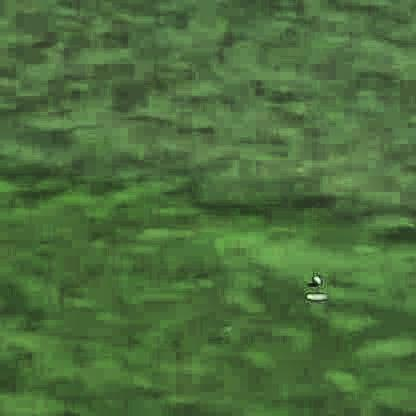golfball: (309, 271, 319, 281)
